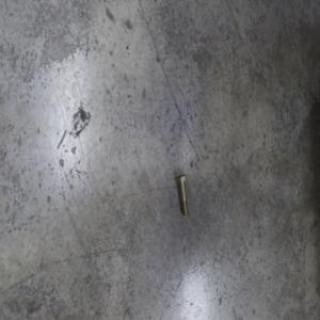Bolttrack_idkeyframe: (175, 171, 188, 216)
